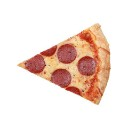pepperonipizza: (16, 25, 114, 104)
